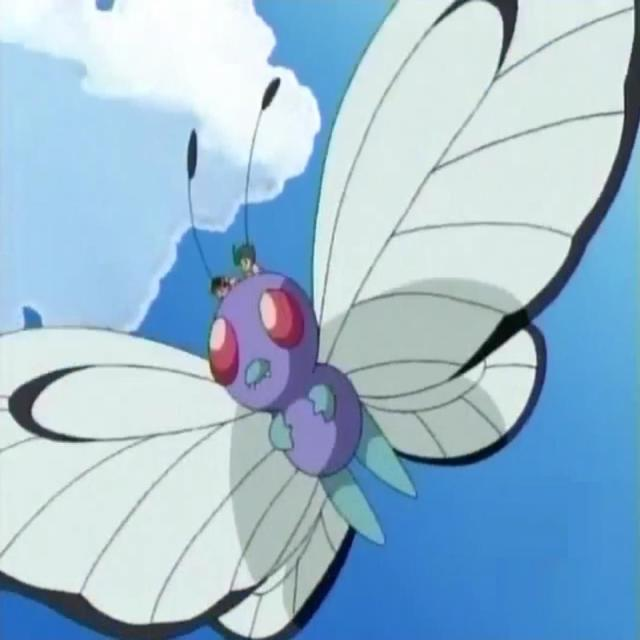Butterfree: (116, 136, 482, 565)
